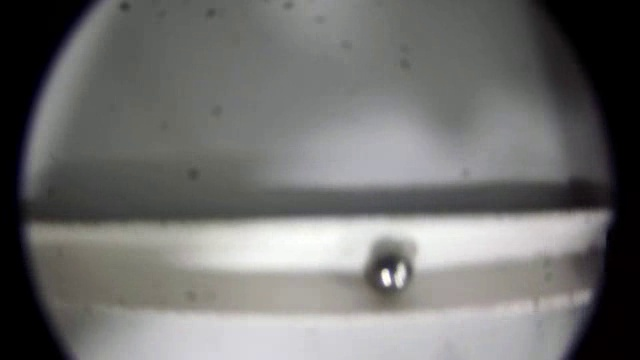gangzhu: (368, 251, 416, 296)
